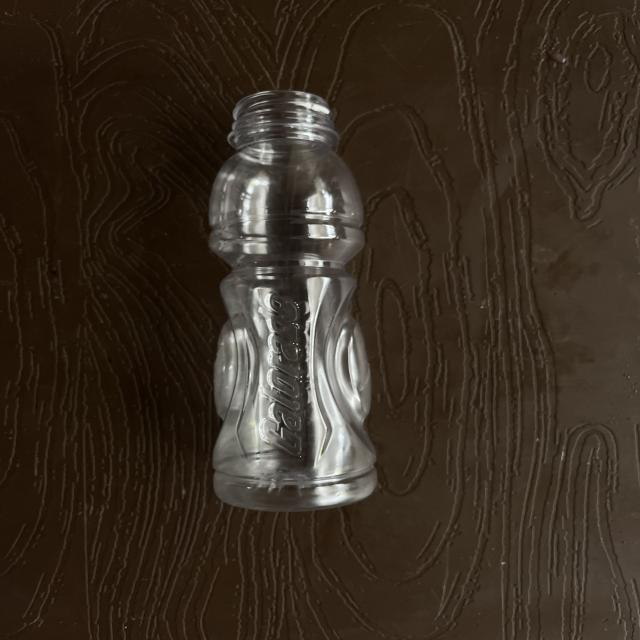PET_ClearBottle: (183, 81, 401, 604)
